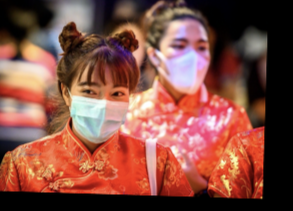with_mask: (67, 73, 129, 144), (157, 31, 212, 95)
